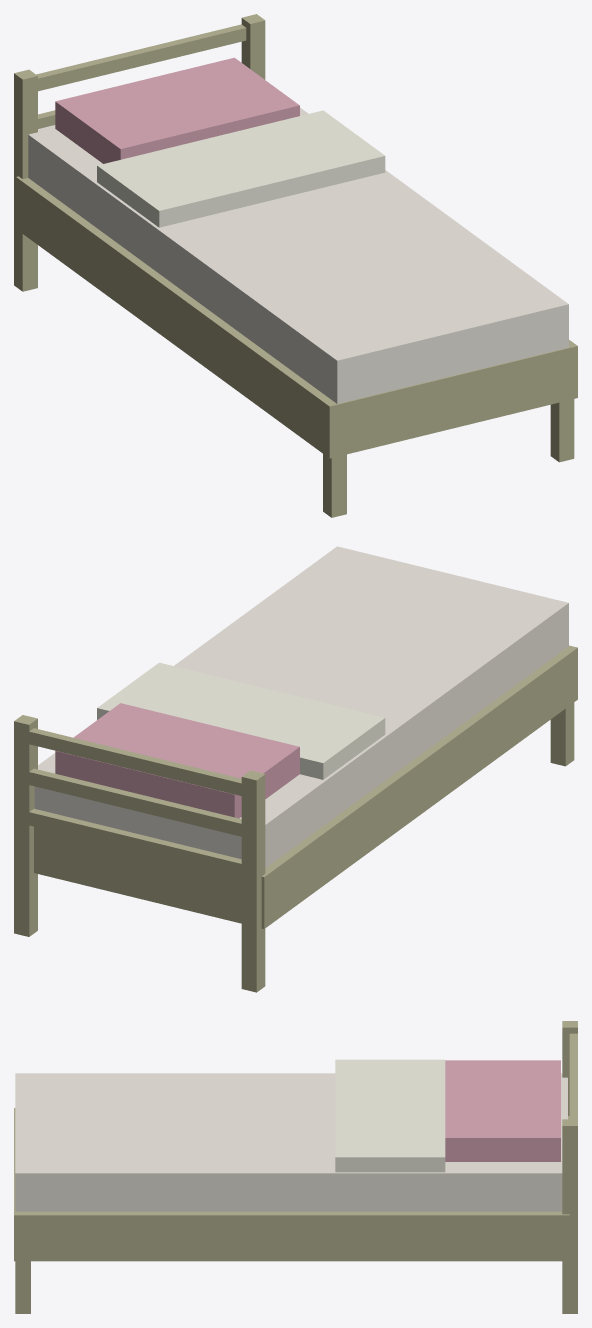
The picture shows the model from 3 angles, top to bottom: view 1: azimuth 30°, elevation 25°; view 2: azimuth 150°, elevation 25°; view 3: azimuth 270°, elevation 25°; orthographic projection. The views are drawn at different scales.
Visible parts, largest first — view 1: Mattress, Wood, FoldedBlanket, Pillow; view 2: Mattress, Wood, Pillow, FoldedBlanket; view 3: Mattress, Wood, FoldedBlanket, Pillow.
Boxes of the visible parts, box(x1,y1,x2,y2) form: Mattress: box(28, 107, 568, 403); Wood: box(14, 14, 577, 517); FoldedBlanket: box(97, 110, 385, 227); Pillow: box(55, 57, 299, 163); Mattress: box(34, 546, 568, 867); Wood: box(14, 645, 577, 992); Pillow: box(55, 703, 299, 818); FoldedBlanket: box(97, 662, 385, 779); Mattress: box(15, 1073, 567, 1211); Wood: box(14, 1021, 577, 1313); FoldedBlanket: box(335, 1059, 445, 1172); Pillow: box(445, 1060, 560, 1161).
Bounding box in the file's own units: 0.9 × 0.735 × 2.
